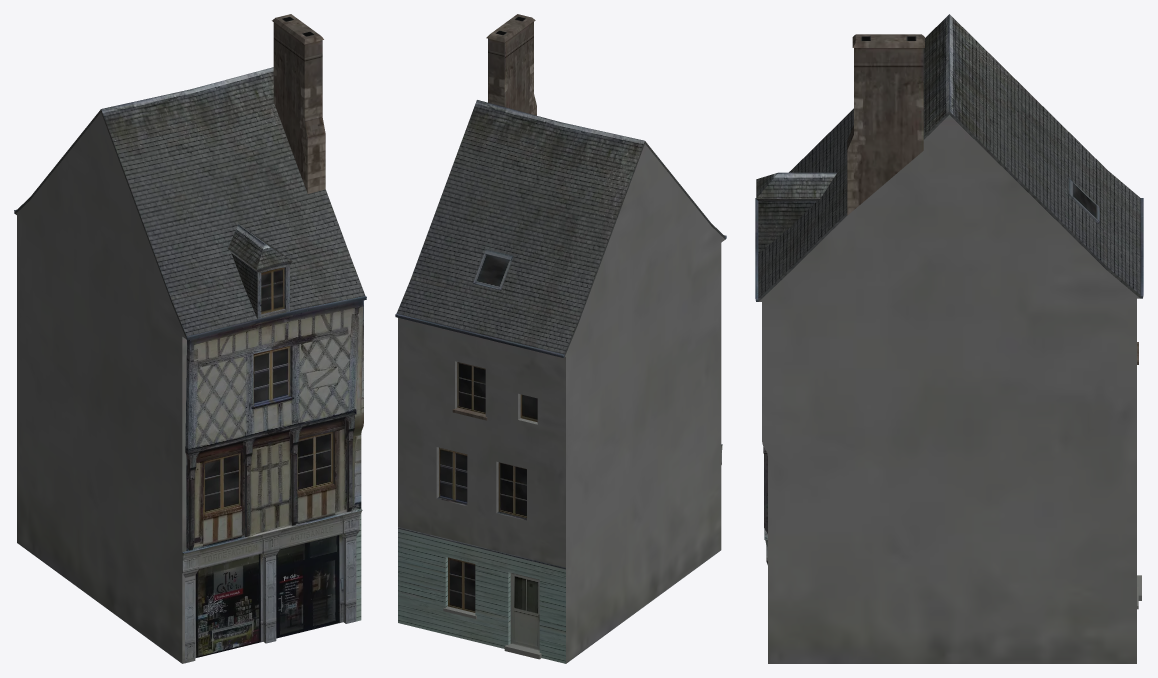
Rendered from bourges.glb.
3 renders of one model, left to right at view 1: azimuth 30°, elevation 25°; view 2: azimuth 150°, elevation 25°; view 3: azimuth 270°, elevation 25°, orthographic. The views are drawn at different scales.
Visible parts, largest first — view 1: 3_3_0; view 2: 3_3_0; view 3: 3_3_0.
Part boxes in pixels (box(x1,y1,x2,y2)): 3_3_0: box(14, 14, 366, 663); 3_3_0: box(395, 14, 726, 663); 3_3_0: box(755, 14, 1143, 663).
Bounding box in the file's own units: 5.9 × 17.41 × 9.88.
1 material, 1 textured.
